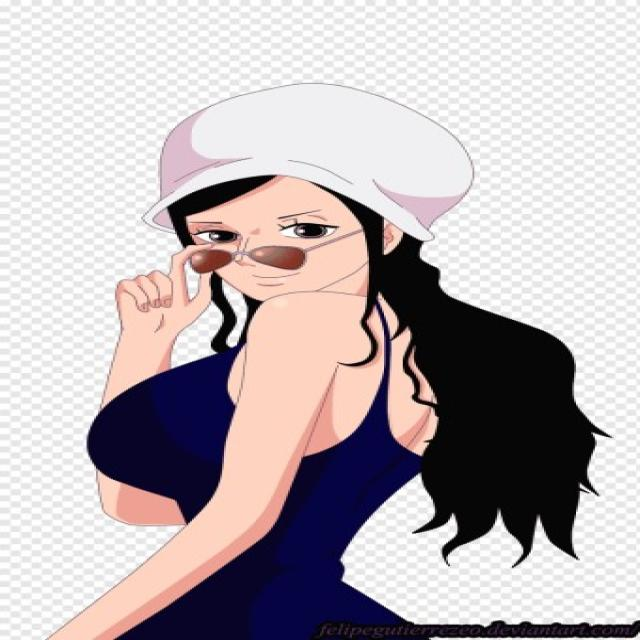NicoRobin: (131, 72, 506, 330)
